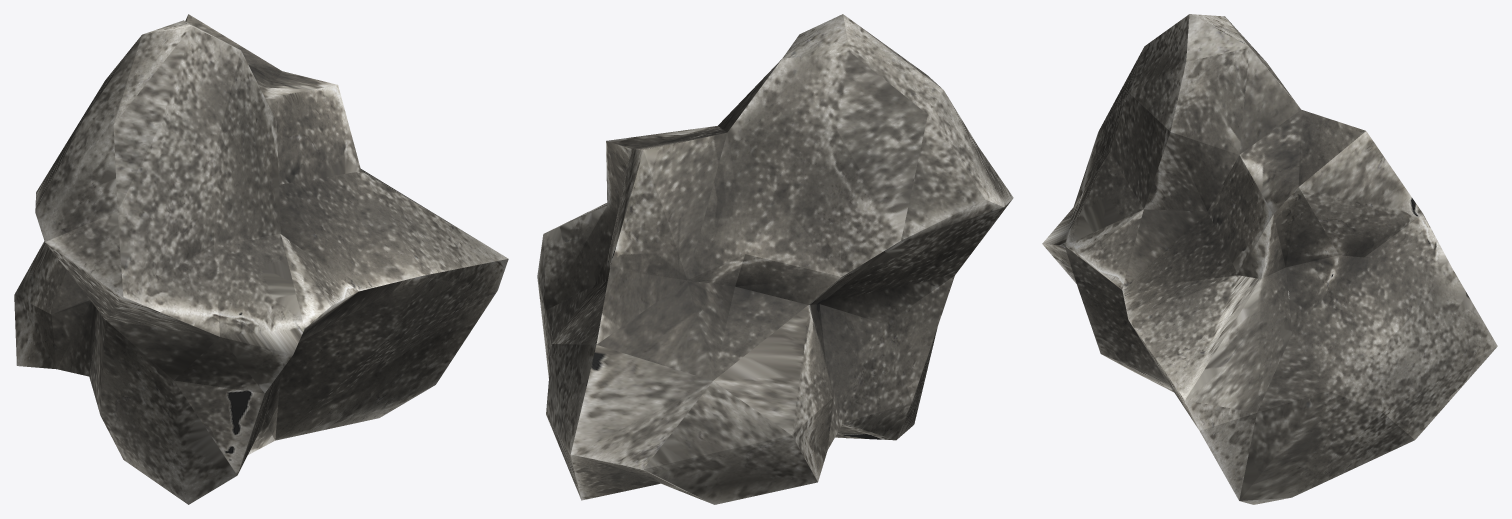
Rendered from rock.fbx.
The picture shows the model from 3 angles, left to right: view 1: azimuth 30°, elevation 25°; view 2: azimuth 150°, elevation 25°; view 3: azimuth 270°, elevation 25°; orthographic projection. The views are drawn at different scales.
Visible parts, largest first — view 1: rock2; view 2: rock2; view 3: rock2.
Boxes of the visible parts, bbox=[...] form: rock2: bbox=[14, 14, 508, 504]; rock2: bbox=[537, 14, 1013, 504]; rock2: bbox=[1042, 14, 1497, 504].
Size of the model in its own units: 89.49 by 89.29 by 86.15.
Materials: 1 (1 with a texture image).
